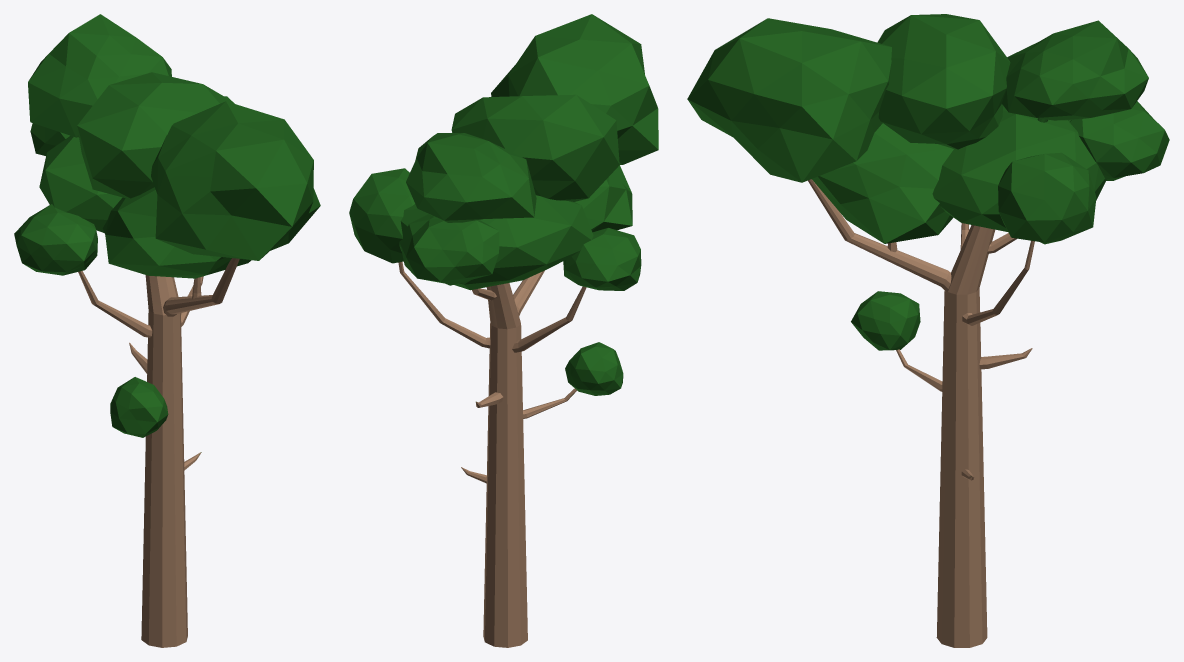
Rendered from Arbol3.fbx.
The picture shows the model from 3 angles, left to right: view 1: azimuth 30°, elevation 25°; view 2: azimuth 150°, elevation 25°; view 3: azimuth 270°, elevation 25°; orthographic projection. The views are drawn at different scales.
Visible parts, largest first — view 1: SecondTree; view 2: SecondTree; view 3: SecondTree.
Part boxes in pixels (x1,y1,x2,y2): SecondTree: [14, 14, 320, 647]; SecondTree: [349, 14, 658, 647]; SecondTree: [687, 14, 1169, 647].
Bounding box in the file's own units: 2536 × 5361 × 3862.
